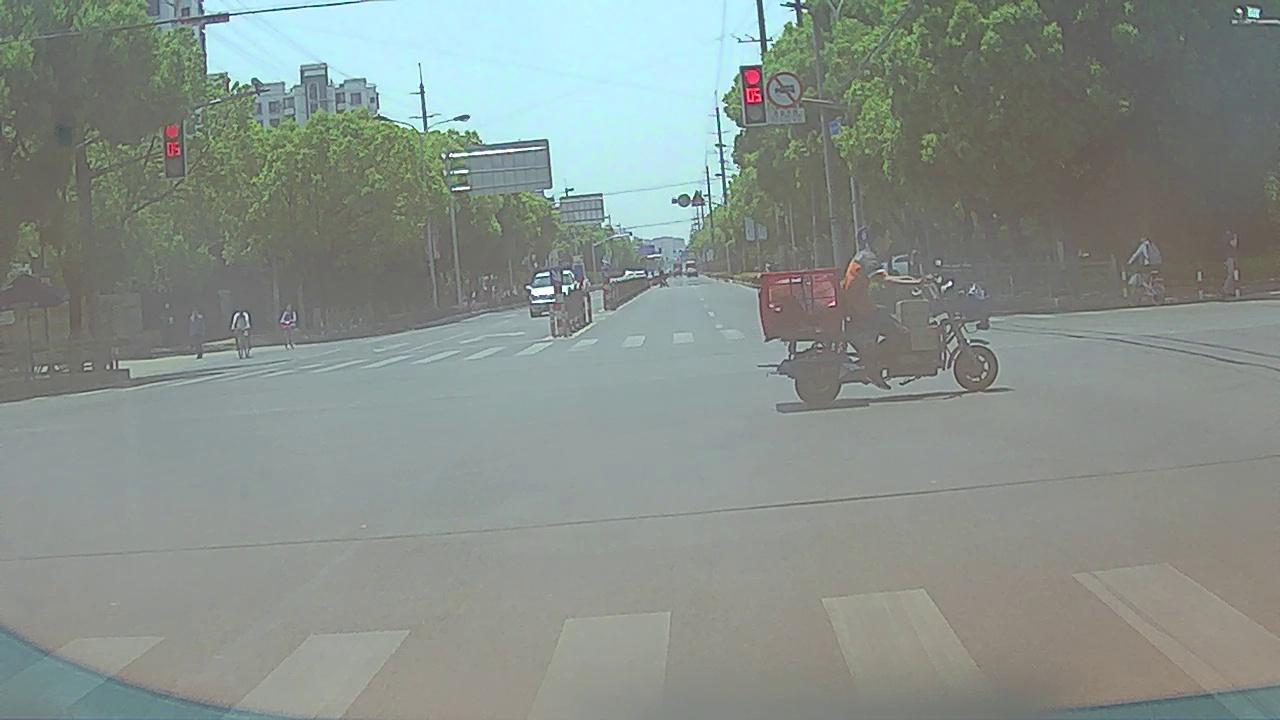traffic_light: (159, 117, 186, 180), (741, 65, 765, 123)
